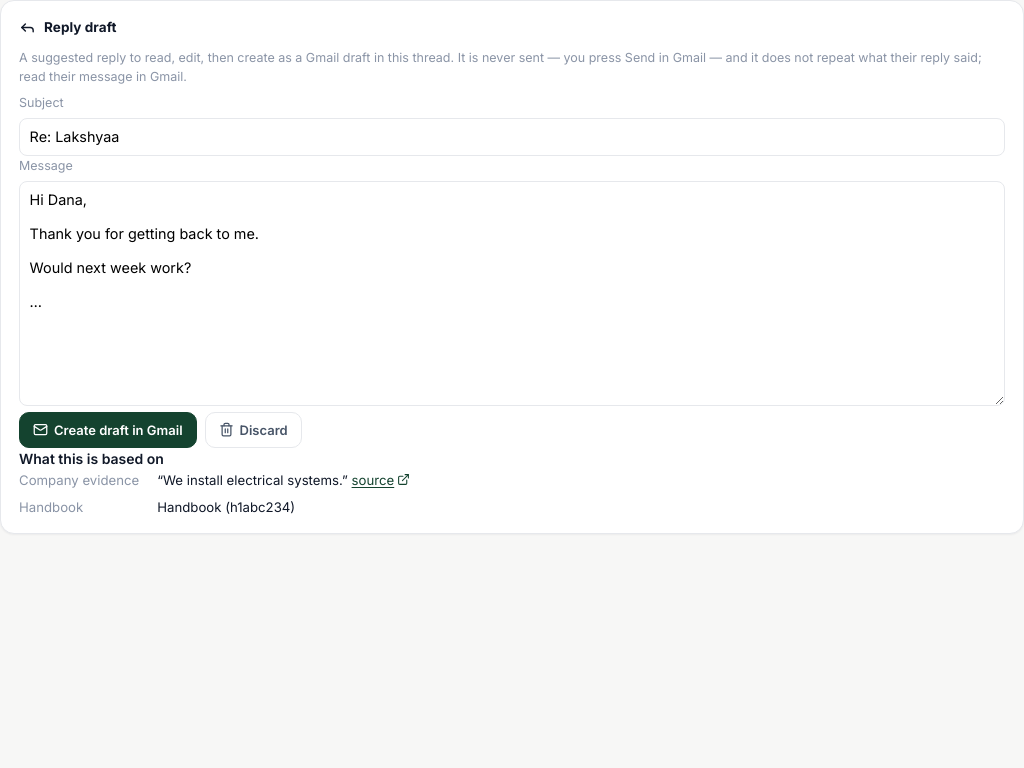
the reply candidate › creates the draft in Gmail and confirms it
Click the button "Create draft in Gmail" at (108, 430), box [19, 412, 197, 448]
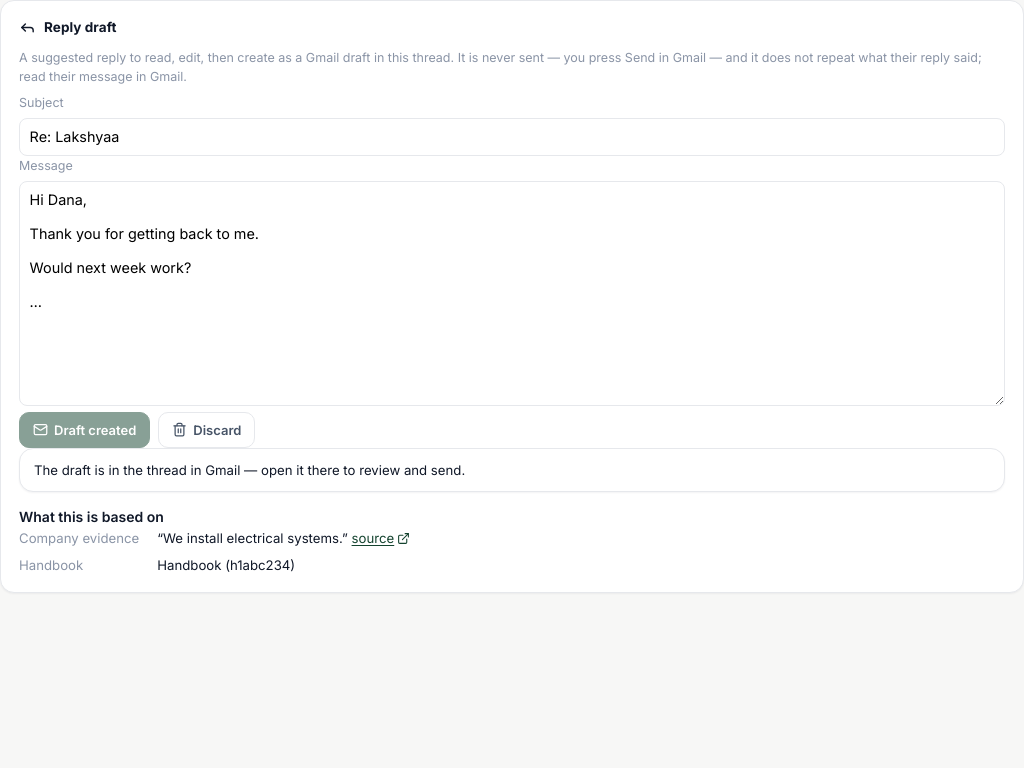
Check: the text "in the thread in Gmail" is shown, box [34, 462, 465, 478]
